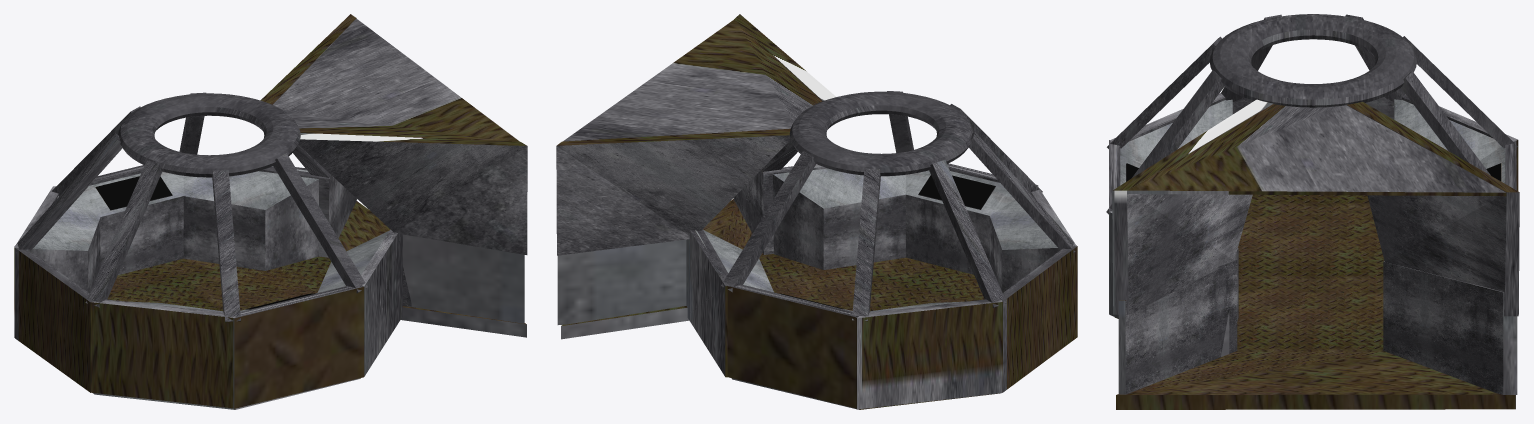
Rendered from ufo.obj.
3 renders of one model, left to right at view 1: azimuth 30°, elevation 25°; view 2: azimuth 150°, elevation 25°; view 3: azimuth 270°, elevation 25°, orthographic. The views are drawn at different scales.
Visible parts, largest first — view 1: bedienfeld_links_Cube.022; view 2: bedienfeld_links_Cube.022; view 3: bedienfeld_links_Cube.022.
Part boxes in pixels (x1,y1,x2,y2): bedienfeld_links_Cube.022: [14, 14, 527, 409]; bedienfeld_links_Cube.022: [556, 14, 1077, 409]; bedienfeld_links_Cube.022: [1106, 14, 1519, 409].
Size of the model in its own units: 9.04 by 4.49 by 7.3.
